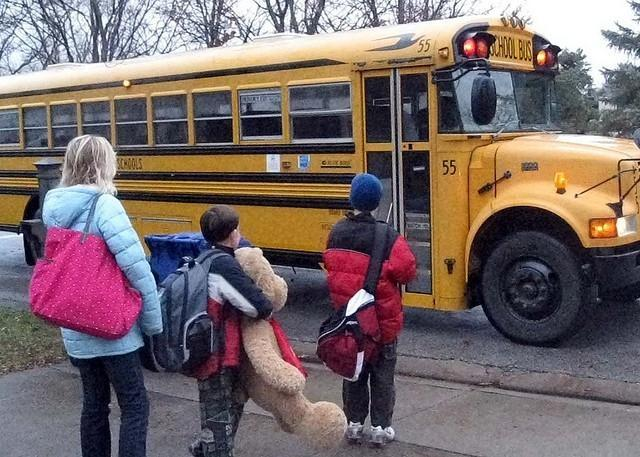bus: (1, 14, 640, 346)
